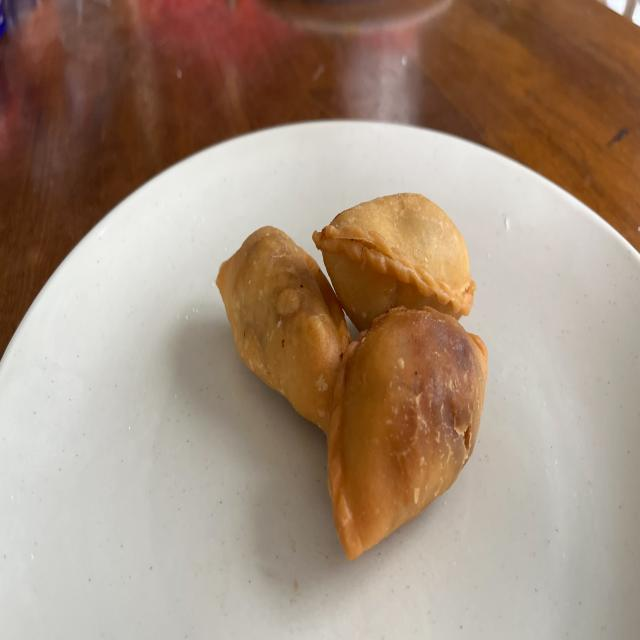karipap: (328, 307, 488, 560), (216, 227, 350, 433), (312, 193, 475, 331)
